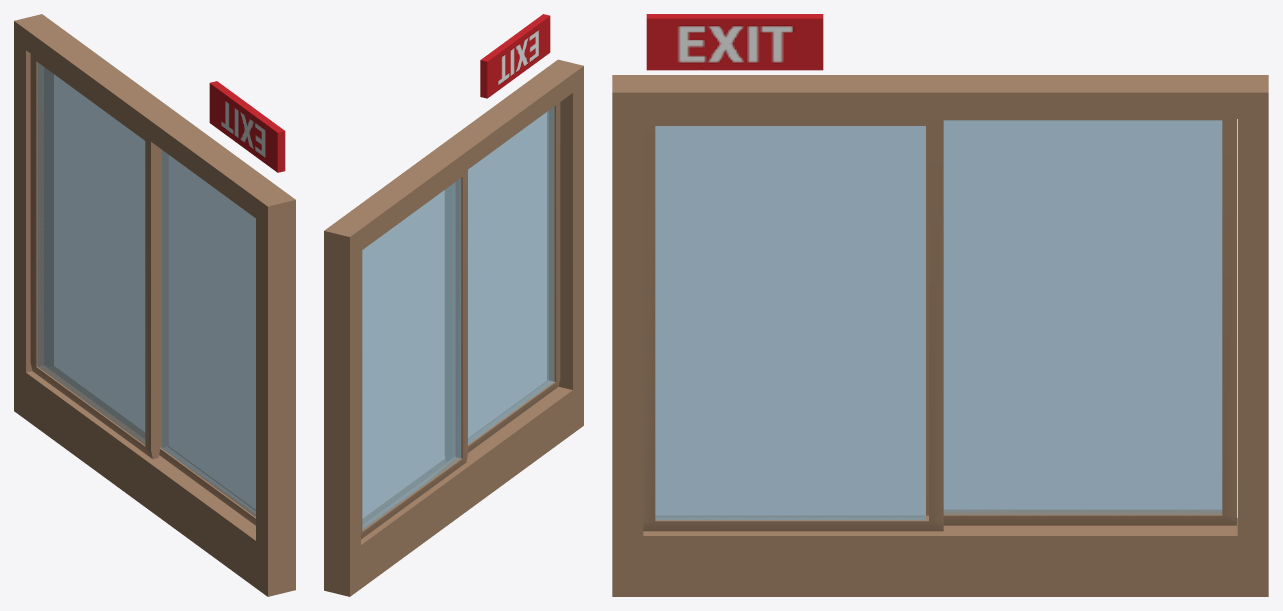
Rendered from group_exit 1.fbx.
3 renders of one model, left to right at view 1: azimuth 30°, elevation 25°; view 2: azimuth 150°, elevation 25°; view 3: azimuth 270°, elevation 25°, orthographic. The views are drawn at different scales.
Parts seen in each view (by area): view 1: obj_exitdoor_frame, pCube3, pCube4, obj_exitsign; view 2: obj_exitdoor_frame, pCube3, pCube4, obj_exitsign; view 3: pCube4, pCube3, obj_exitdoor_frame, obj_exitsign.
Boxes of the visible parts, box(x1,y1,x2,y2) form: obj_exitdoor_frame: box(14, 14, 295, 596); pCube3: box(30, 54, 160, 459); pCube4: box(159, 149, 255, 525); obj_exitsign: box(209, 81, 285, 172); obj_exitdoor_frame: box(324, 59, 583, 596); pCube3: box(361, 170, 467, 539); pCube4: box(445, 102, 560, 461); obj_exitsign: box(480, 14, 550, 98); pCube4: box(643, 119, 943, 531); pCube3: box(926, 119, 1236, 525); obj_exitdoor_frame: box(612, 75, 1268, 596); obj_exitsign: box(646, 14, 823, 70).
Size of the model in its own units: 0.1465 by 2.04 by 2.09.
Materials: 2 (1 with a texture image).
